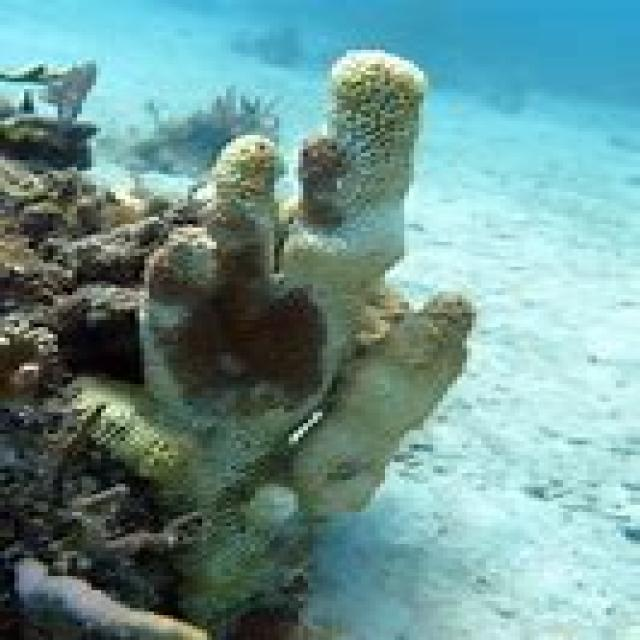Coral: (45, 48, 478, 640)
